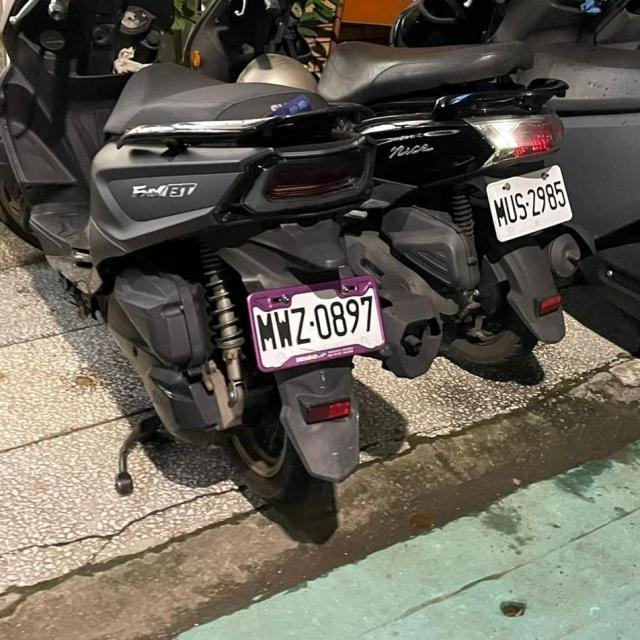W: (238, 269, 396, 374), (478, 159, 582, 245)
